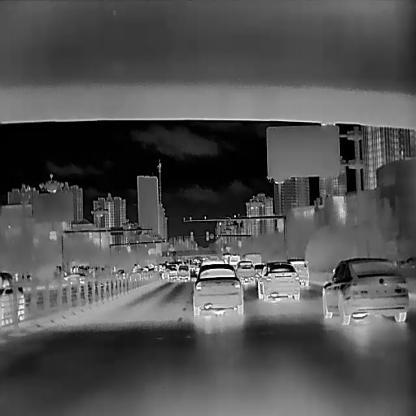car: (322, 257, 409, 324), (191, 263, 245, 316), (257, 261, 300, 301), (0, 271, 25, 324), (285, 258, 309, 286), (234, 260, 255, 285), (63, 272, 87, 285), (242, 253, 261, 268), (161, 265, 178, 279), (177, 264, 190, 281), (254, 263, 265, 277)
